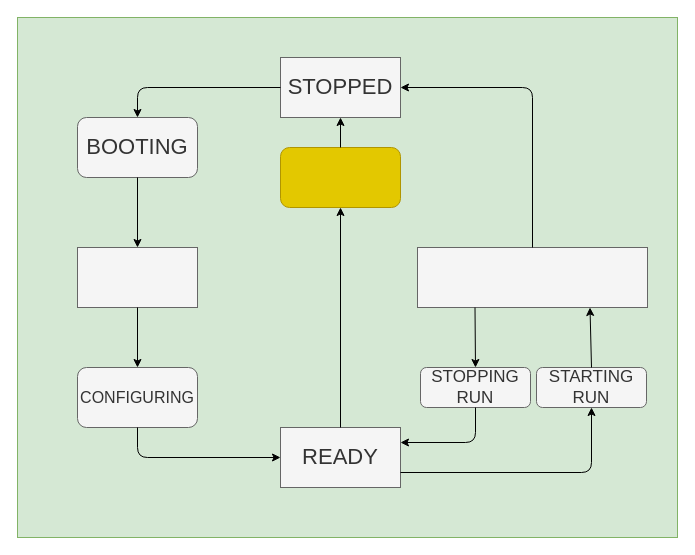
The diagram is 695 pixels wide and 555 high, and some of its shapes have lost their labels. Here are the shapes that lost their labels. From the top down, the box of each, then its label:
(280, 146, 400, 208): TERMINATING
(76, 246, 198, 308): BOOTED
(416, 246, 648, 308): RUNNING
